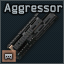AK 5.45 Design Aggressor handguard: (0, 0, 64, 64)
